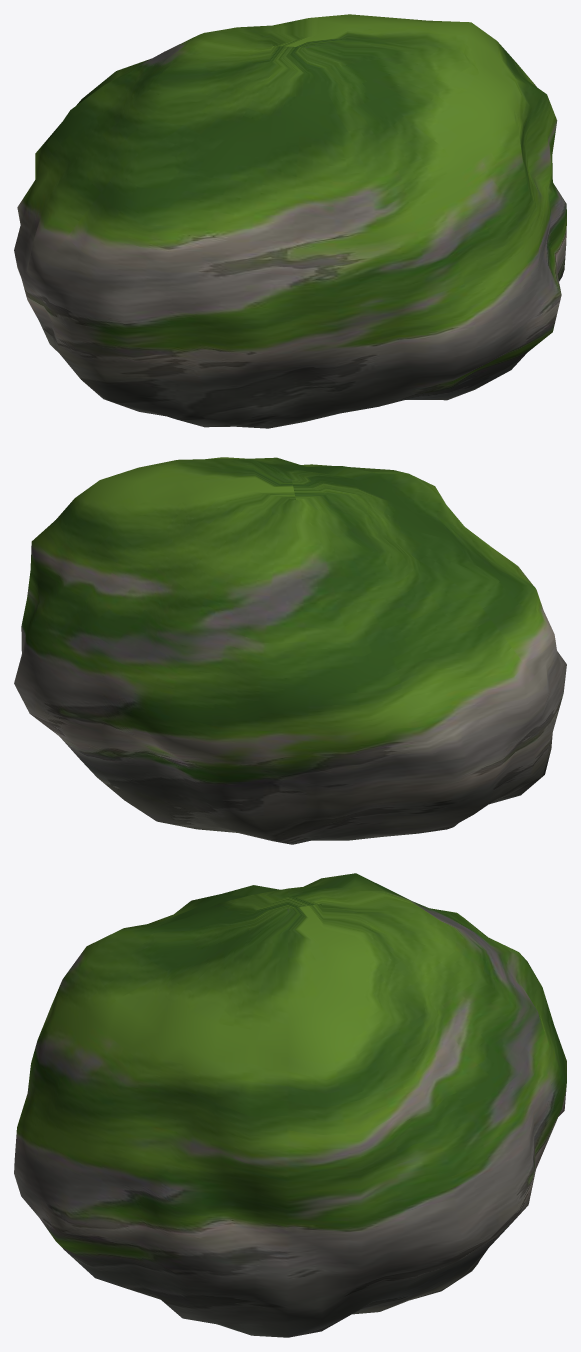
Rendered from bank_boulder.glb.
3 renders of one model, top to bottom at view 1: azimuth 30°, elevation 25°; view 2: azimuth 150°, elevation 25°; view 3: azimuth 270°, elevation 25°, orthographic. The views are drawn at different scales.
Parts seen in each view (by area): view 1: bank_boulder; view 2: bank_boulder; view 3: bank_boulder.
Part boxes in pixels (<box>): bank_boulder: <box>14,14,566,428</box>; bank_boulder: <box>14,457,566,844</box>; bank_boulder: <box>14,873,566,1337</box>.
Size of the model in its own units: 1.23 by 0.6983 by 1.07.
1 material, 1 textured.
